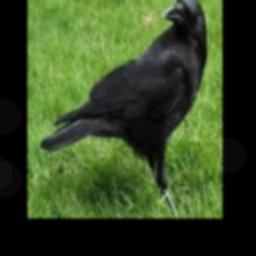Crow: (40, 0, 208, 192)
